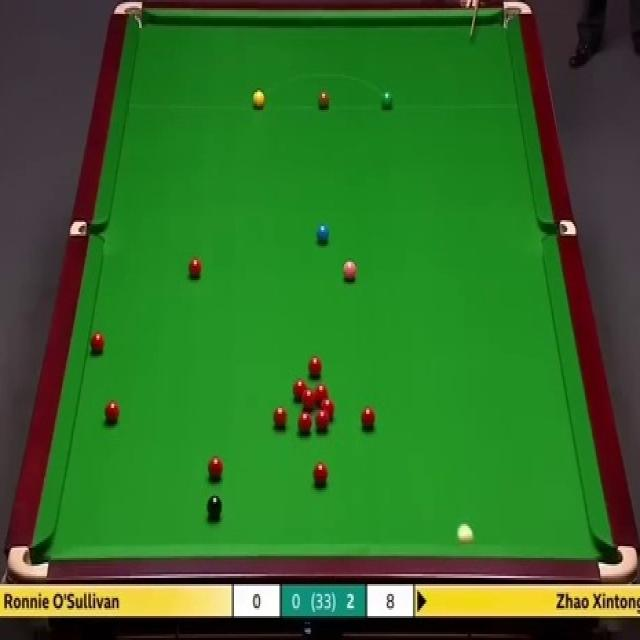pocket: (598, 540, 640, 582), (10, 542, 48, 582), (500, 0, 533, 35), (112, 0, 144, 31), (541, 220, 577, 240), (71, 218, 107, 237)
